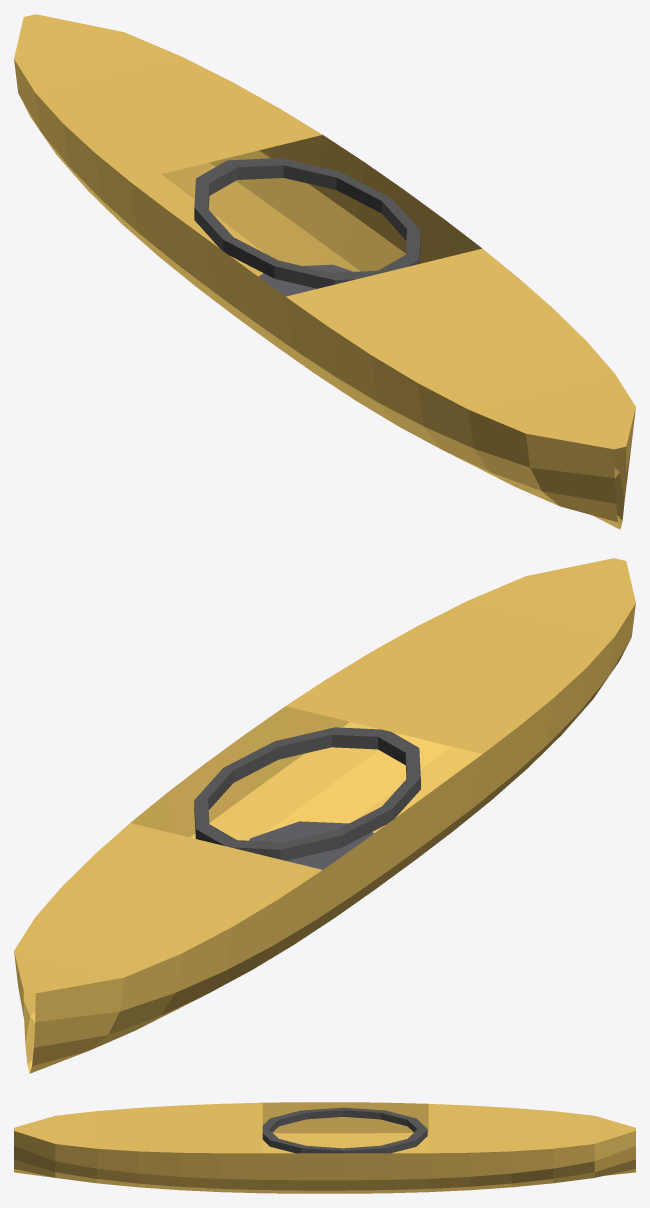
File: kayak1.glb
The picture shows the model from 3 angles, top to bottom: view 1: azimuth 30°, elevation 25°; view 2: azimuth 150°, elevation 25°; view 3: azimuth 270°, elevation 25°; orthographic projection. The views are drawn at different scales.
Visible parts, largest first — view 1: Kayak1_hull, Kayak1_coaming, Kayak1_seat; view 2: Kayak1_hull, Kayak1_coaming, Kayak1_seat; view 3: Kayak1_hull, Kayak1_coaming.
Boxes of the visible parts, x1,y1,x2,y2 form: Kayak1_hull: (14,14,635,529); Kayak1_coaming: (194,158,420,288); Kayak1_seat: (258,264,353,296); Kayak1_hull: (14,558,635,1073); Kayak1_coaming: (194,727,420,860); Kayak1_seat: (249,821,373,869); Kayak1_hull: (14,1102,635,1193); Kayak1_coaming: (262,1107,427,1153).
Size of the model in its own units: 0.6597 by 0.3694 by 3.4.
